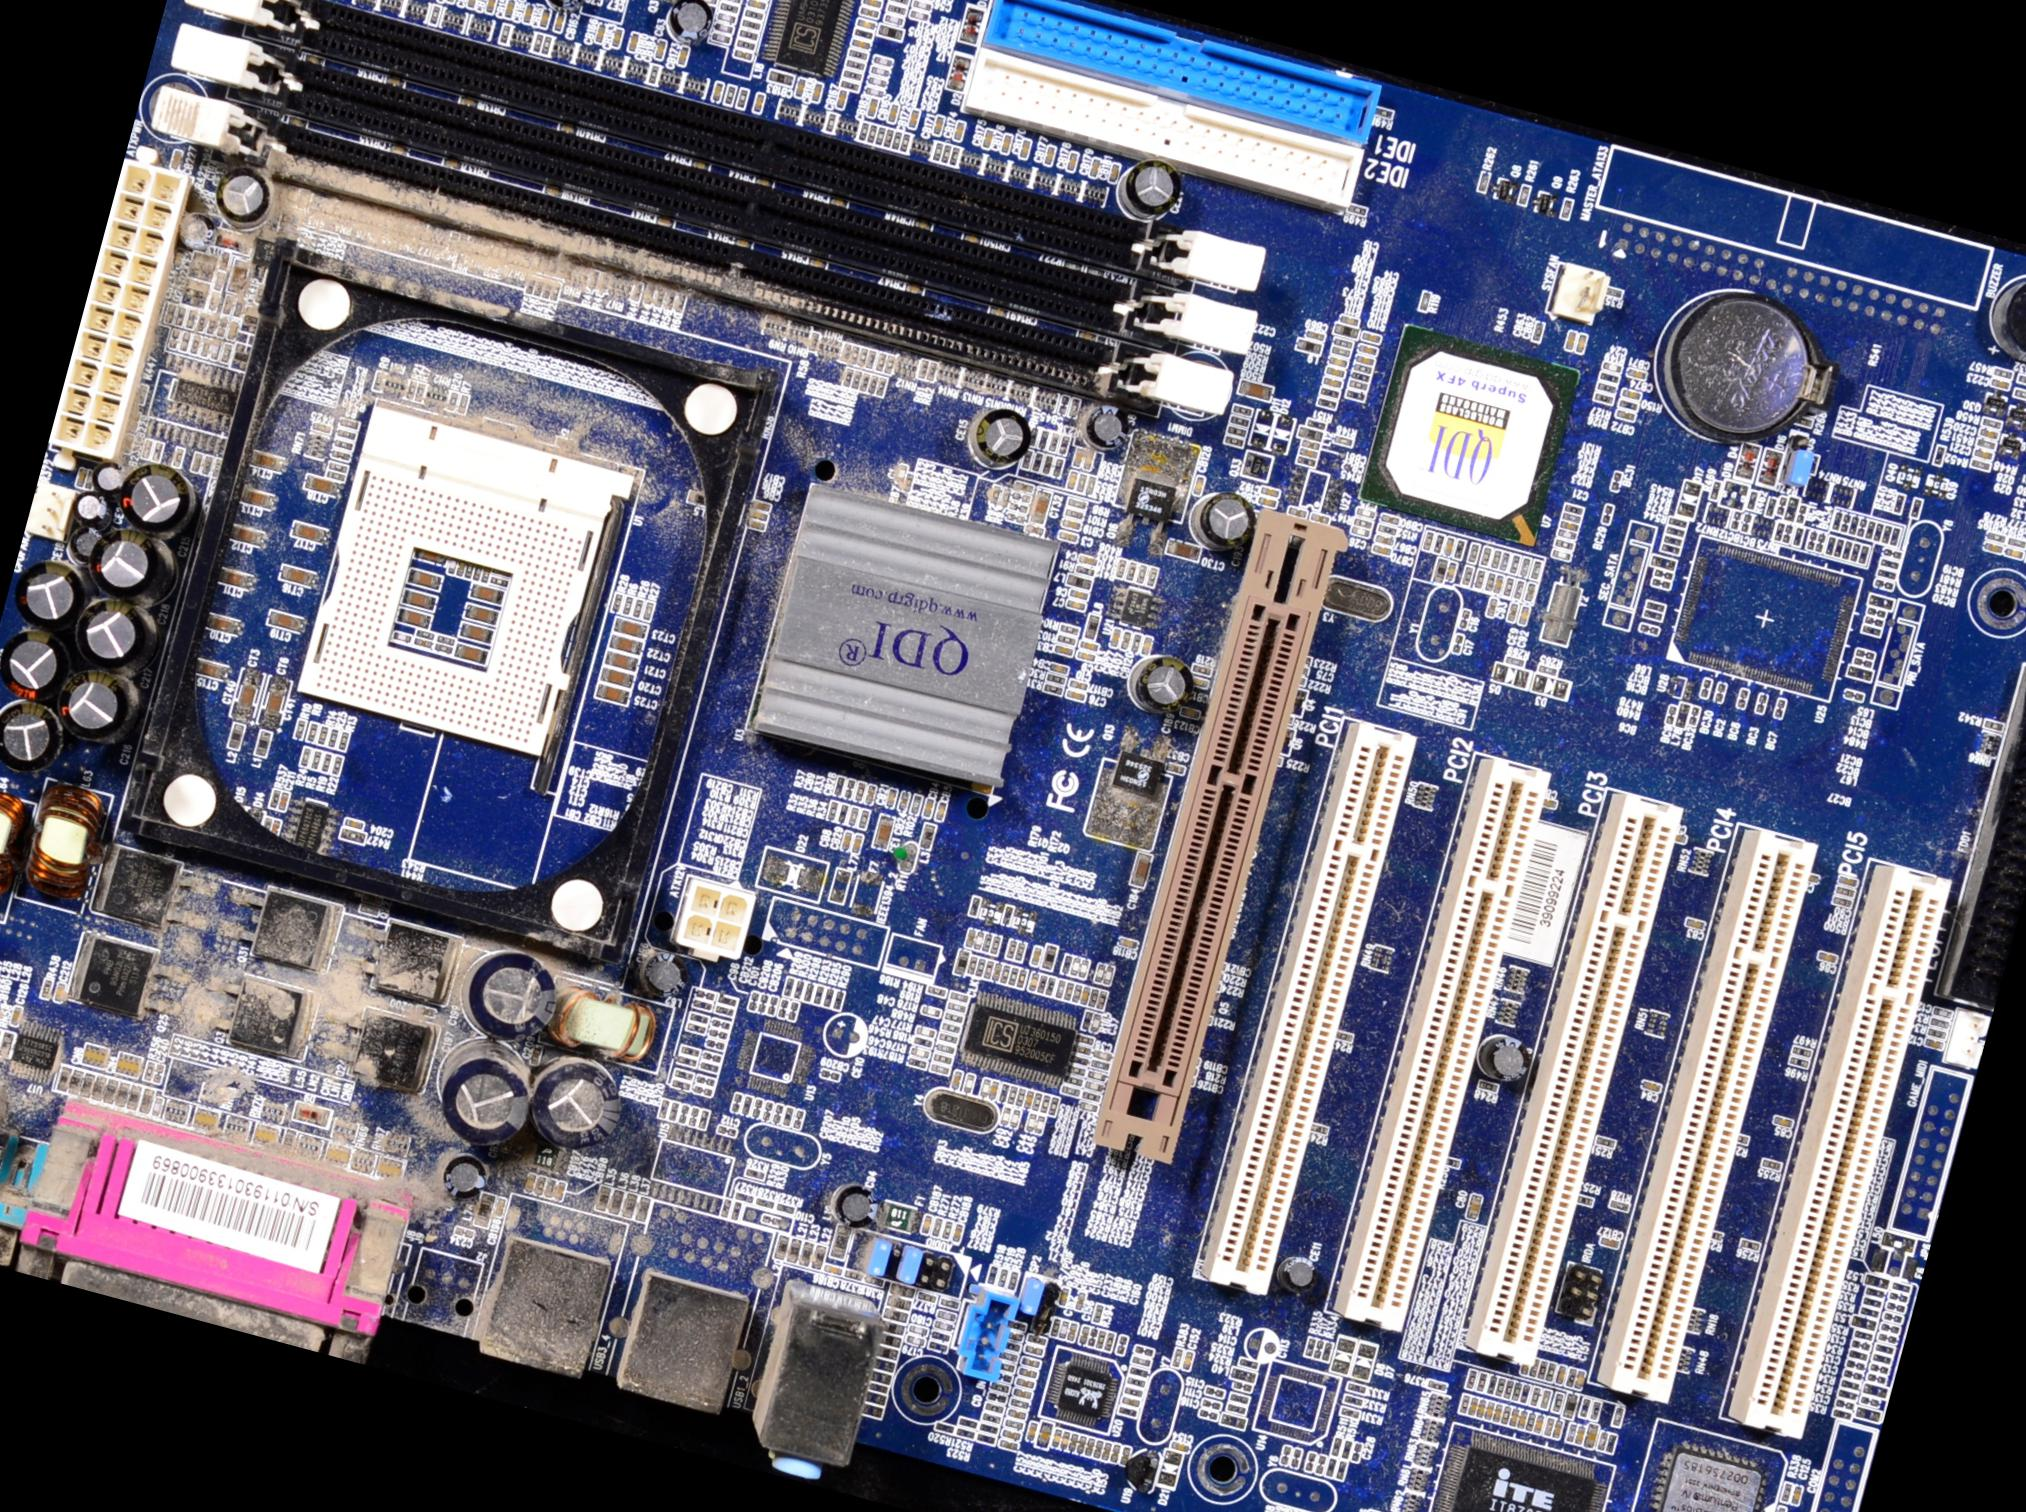Capacitor Jumper: (428, 1030, 543, 1160), (454, 934, 570, 1052), (521, 1048, 638, 1164), (68, 591, 166, 682), (84, 524, 180, 614), (55, 660, 150, 748), (109, 456, 200, 540), (7, 551, 90, 638), (0, 619, 78, 703), (1115, 148, 1193, 228), (0, 693, 67, 779), (1126, 647, 1201, 722), (966, 402, 1038, 475), (1187, 482, 1260, 554), (207, 160, 279, 232), (633, 944, 696, 1006), (825, 1178, 880, 1234), (436, 1149, 491, 1205), (661, 0, 721, 48), (1082, 401, 1133, 453), (1274, 1252, 1320, 1298), (65, 520, 106, 566), (176, 210, 218, 252), (70, 487, 112, 526), (89, 457, 128, 496), (1165, 538, 1203, 564), (1128, 850, 1152, 888), (538, 0, 596, 15), (1028, 488, 1051, 524), (1238, 379, 1272, 401), (1464, 1192, 1484, 1220), (1036, 1422, 1054, 1448), (1063, 687, 1088, 705), (1582, 1424, 1599, 1450), (1022, 1111, 1039, 1135), (865, 74, 891, 89), (1007, 1108, 1023, 1132), (1788, 1482, 1804, 1506), (710, 30, 734, 46), (8, 1004, 23, 1029), (1882, 1311, 1905, 1327), (870, 53, 894, 68), (1456, 608, 1471, 632), (1772, 1113, 1793, 1130), (1120, 1394, 1141, 1411), (1874, 1342, 1896, 1358), (1972, 447, 1994, 463), (919, 1005, 942, 1020), (1200, 1397, 1223, 1412), (869, 64, 892, 79), (1074, 649, 1097, 664), (1639, 1080, 1663, 1094), (1884, 1300, 1908, 1314), (1858, 1395, 1882, 1409), (1564, 329, 1578, 353), (1924, 1037, 1946, 1052), (1203, 1385, 1225, 1400), (1371, 542, 1393, 557), (913, 1024, 936, 1038), (1866, 1362, 1889, 1376), (53, 983, 67, 1006), (1441, 535, 1455, 558), (1836, 874, 1859, 888), (998, 1106, 1013, 1127), (1871, 1352, 1892, 1367), (1817, 950, 1838, 965), (1358, 331, 1382, 344), (1931, 1006, 1953, 1020), (746, 991, 760, 1013), (1180, 1350, 1194, 1372), (932, 1320, 954, 1334), (1197, 1408, 1219, 1422), (1614, 408, 1636, 422), (1556, 528, 1578, 542), (1444, 560, 1458, 582), (1054, 642, 1076, 656), (716, 9, 736, 24), (1354, 504, 1374, 519), (1168, 1441, 1191, 1454), (1484, 596, 1497, 619), (766, 996, 780, 1017), (1474, 1399, 1488, 1420), (1978, 426, 1999, 440), (1558, 518, 1579, 532), (1506, 602, 1520, 623), (1684, 918, 1705, 932), (910, 0, 934, 12), (342, 819, 364, 832), (1311, 1339, 1324, 1361), (1258, 485, 1280, 498), (1517, 606, 1530, 628), (1092, 962, 1106, 982), (1050, 1428, 1064, 1448), (1990, 377, 2010, 391), (1628, 367, 1648, 381), (1622, 387, 1642, 401), (1066, 597, 1086, 611), (1140, 637, 1154, 657), (1492, 572, 1504, 595), (1058, 1286, 1071, 1307), (1092, 1439, 1105, 1460), (1325, 366, 1346, 379), (1452, 634, 1465, 655), (1076, 554, 1097, 567), (909, 9, 930, 22), (882, 12, 904, 24), (864, 86, 886, 98), (1601, 362, 1623, 374), (1058, 530, 1080, 542), (951, 1224, 964, 1244), (1118, 1446, 1131, 1466), (1083, 1438, 1096, 1458), (1340, 314, 1360, 327), (1887, 1293, 1910, 1304), (1078, 958, 1090, 979), (1572, 1425, 1584, 1446), (935, 1310, 956, 1322), (1516, 1410, 1529, 1429), (714, 22, 733, 35), (1380, 512, 1399, 525), (1181, 706, 1200, 719), (1110, 628, 1121, 650), (1574, 1370, 1586, 1390), (920, 1216, 932, 1236), (823, 1264, 843, 1276), (907, 1324, 927, 1336), (1100, 1442, 1112, 1462), (1576, 334, 1588, 354), (1507, 1409, 1520, 1427), (1072, 448, 1085, 466), (278, 790, 289, 811), (1034, 1114, 1045, 1135), (1867, 1372, 1886, 1384), (1375, 535, 1394, 547), (1492, 1404, 1503, 1424), (1552, 1420, 1563, 1440), (1026, 1422, 1037, 1442), (1074, 1292, 1086, 1310), (1076, 1436, 1088, 1454), (1328, 356, 1346, 368), (1552, 548, 1570, 560), (1351, 526, 1369, 538), (1066, 472, 1078, 490), (1080, 640, 1098, 652), (1483, 1402, 1494, 1421), (905, 1336, 924, 1347), (1110, 1443, 1121, 1462), (1069, 588, 1088, 599), (1104, 964, 1114, 984), (1067, 1322, 1077, 1342), (1468, 1398, 1478, 1417), (1071, 959, 1082, 976), (1067, 1434, 1078, 1451), (1060, 1432, 1070, 1450), (1533, 1418, 1544, 1434), (1556, 1368, 1566, 1384), (720, 0, 745, 6), (696, 0, 720, 5), (1774, 1506, 1787, 1511)
Connector: (146, 71, 1252, 436), (165, 14, 1276, 366), (179, 0, 1274, 303), (1079, 501, 1354, 1176), (1589, 819, 1827, 1409), (1190, 710, 1422, 1296), (1456, 789, 1689, 1372), (1326, 749, 1557, 1334), (1726, 854, 1956, 1433), (964, 48, 1362, 207), (983, 0, 1384, 148), (1470, 1026, 1536, 1088)
IC: (1352, 319, 1586, 551), (1417, 1420, 1615, 1511), (1627, 1420, 1788, 1511), (955, 992, 1081, 1092), (760, 0, 867, 84), (1040, 1345, 1128, 1433), (160, 358, 245, 436), (277, 796, 344, 861), (5, 1018, 67, 1088), (1105, 578, 1170, 631)
Resistor Jumper: (1473, 169, 1492, 195), (1344, 201, 1370, 220), (824, 799, 841, 825), (838, 66, 864, 83), (1465, 540, 1482, 566), (1558, 197, 1576, 221), (1552, 536, 1577, 553), (340, 828, 366, 844), (845, 47, 871, 63), (837, 78, 863, 94), (1530, 318, 1546, 344), (1515, 184, 1532, 208), (1322, 1456, 1339, 1480), (735, 85, 751, 110), (850, 26, 876, 41), (842, 57, 868, 72), (1607, 1198, 1631, 1214), (38, 976, 54, 1000), (1416, 290, 1432, 314), (1967, 457, 1991, 473), (1592, 390, 1616, 406), (1858, 1305, 1880, 1322), (1476, 1078, 1499, 1094), (1846, 1348, 1869, 1364), (669, 1077, 692, 1093), (1342, 1394, 1365, 1410), (1500, 577, 1516, 600), (1041, 682, 1064, 698), (292, 718, 307, 742), (1878, 1321, 1902, 1336), (1344, 1381, 1368, 1396), (1169, 1347, 1184, 1371), (1516, 554, 1531, 578), (1420, 530, 1435, 554), (1072, 1042, 1094, 1058), (1738, 1238, 1760, 1254), (1374, 104, 1396, 120), (712, 1004, 735, 1019), (1541, 1416, 1556, 1439), (1237, 1356, 1260, 1371), (926, 1340, 949, 1355), (1335, 1459, 1350, 1482), (723, 84, 738, 107), (1530, 559, 1545, 582), (1472, 568, 1487, 591), (886, 2, 909, 17), (1790, 1046, 1814, 1060), (299, 744, 313, 768), (1760, 1158, 1784, 1172), (944, 1001, 968, 1015), (942, 1010, 966, 1024), (782, 975, 796, 999), (1860, 1295, 1884, 1309), (907, 1046, 931, 1060), (1303, 1336, 1317, 1360), (1908, 495, 1922, 519), (1984, 530, 2008, 544), (848, 369, 864, 390), (866, 374, 880, 398), (1477, 545, 1493, 566), (1507, 553, 1523, 574), (1594, 1135, 1616, 1150), (1340, 1405, 1362, 1420), (1522, 582, 1537, 604), (1129, 632, 1144, 654), (947, 991, 970, 1005), (1060, 1084, 1083, 1098), (1080, 1090, 1103, 1104), (905, 1058, 928, 1072), (1830, 1408, 1853, 1422), (1980, 416, 2003, 430), (1460, 565, 1474, 588), (1057, 633, 1080, 647), (1834, 886, 1857, 900), (1086, 987, 1101, 1008), (267, 789, 282, 810), (941, 1021, 962, 1036), (1229, 1391, 1250, 1406), (1127, 1365, 1148, 1380), (1489, 548, 1504, 569), (836, 802, 849, 826), (338, 732, 352, 754), (310, 749, 324, 771), (965, 956, 979, 978), (832, 990, 846, 1012), (716, 994, 738, 1008), (1876, 1332, 1898, 1346), (1852, 1328, 1874, 1342), (698, 1060, 720, 1074), (672, 1068, 694, 1082), (1474, 1372, 1488, 1394), (1550, 1392, 1564, 1414), (1006, 1270, 1020, 1292), (142, 1062, 156, 1084), (1134, 1344, 1156, 1358), (916, 1290, 938, 1304), (1116, 1406, 1138, 1420), (934, 1421, 956, 1435), (858, 372, 872, 394), (1430, 532, 1444, 554), (1512, 580, 1526, 602), (1504, 654, 1526, 668), (1328, 1437, 1344, 1456), (1863, 1286, 1886, 1299), (1321, 1341, 1334, 1364), (883, 352, 896, 375), (1788, 1056, 1809, 1070), (822, 987, 836, 1008), (1426, 1379, 1447, 1393), (864, 1274, 885, 1288), (1225, 1402, 1246, 1416), (1123, 1386, 1144, 1400), (1992, 366, 2013, 380), (642, 601, 656, 622), (610, 593, 624, 614), (327, 728, 340, 750), (1008, 965, 1021, 987), (1015, 968, 1028, 990), (740, 18, 762, 31), (1931, 444, 1944, 466), (1598, 372, 1620, 385), (1893, 493, 1906, 515), (924, 360, 937, 382), (873, 377, 886, 399), (1066, 497, 1088, 510), (1536, 664, 1558, 677), (1096, 989, 1110, 1009), (802, 982, 816, 1002), (792, 980, 806, 1000), (1779, 1482, 1793, 1502), (620, 597, 634, 617), (847, 805, 859, 828), (687, 1012, 710, 1024), (1595, 382, 1618, 394), (1454, 537, 1466, 560), (858, 809, 871, 830), (316, 726, 329, 747), (1063, 982, 1076, 1003), (812, 984, 825, 1005), (1892, 1282, 1913, 1295), (936, 1032, 957, 1045), (1836, 1388, 1857, 1401), (987, 1265, 1000, 1286), (929, 1331, 950, 1344), (736, 38, 757, 51), (1531, 322, 1544, 343), (916, 358, 929, 379), (843, 367, 856, 388), (1120, 631, 1133, 652), (1059, 623, 1080, 636), (2006, 537, 2025, 551), (1838, 1379, 1860, 1391), (1540, 1388, 1552, 1410), (737, 28, 759, 40), (1975, 438, 1997, 450), (1560, 511, 1582, 523), (1376, 524, 1398, 536), (1352, 518, 1374, 530), (990, 935, 1003, 955), (1004, 940, 1017, 960), (935, 1043, 955, 1056), (680, 1046, 700, 1059), (930, 1217, 943, 1237), (1605, 1434, 1618, 1454), (1596, 1432, 1609, 1452), (1091, 1304, 1104, 1324), (1125, 1376, 1145, 1389), (956, 1417, 976, 1430), (1563, 502, 1583, 515), (1064, 508, 1084, 521), (854, 780, 866, 801), (833, 776, 845, 797), (332, 756, 344, 777), (982, 933, 994, 954), (1074, 1034, 1095, 1046), (691, 1000, 712, 1012), (942, 1220, 954, 1241), (1486, 1375, 1498, 1396), (864, 348, 876, 369), (1832, 896, 1853, 908), (1014, 942, 1027, 961), (306, 724, 318, 744), (974, 957, 986, 977), (1046, 977, 1058, 997), (745, 9, 765, 21), (1536, 1360, 1548, 1380), (1503, 1380, 1515, 1400), (1494, 1378, 1506, 1398), (734, 1192, 754, 1204), (996, 1268, 1008, 1288), (1499, 1406, 1511, 1426), (843, 1270, 863, 1282), (939, 1298, 959, 1310), (1132, 1356, 1152, 1368), (1340, 1440, 1352, 1460), (1004, 1419, 1024, 1431), (954, 1428, 974, 1440), (1619, 398, 1639, 410), (874, 352, 886, 372), (1500, 551, 1512, 571), (1577, 1195, 1595, 1208), (632, 598, 643, 619), (999, 965, 1011, 984), (1036, 975, 1048, 994), (982, 961, 994, 980), (686, 1023, 705, 1035), (744, 1169, 763, 1181), (755, 1198, 774, 1210), (856, 348, 868, 367), (1484, 572, 1496, 591), (2011, 386, 2025, 402), (322, 754, 333, 774), (1529, 1388, 1540, 1408), (776, 1204, 796, 1215), (1072, 985, 1084, 1003), (1512, 1382, 1524, 1400), (1465, 1372, 1477, 1390), (910, 795, 921, 814), (1544, 1363, 1555, 1382), (1520, 1385, 1531, 1404), (932, 1054, 952, 1064), (1064, 1075, 1082, 1086), (930, 1064, 948, 1075), (1565, 1368, 1575, 1387), (886, 0, 913, 7), (1525, 1413, 1536, 1430), (1071, 1055, 1088, 1064), (1048, 674, 1065, 683), (2016, 373, 2025, 387)
Transistor: (190, 963, 328, 1068), (66, 928, 196, 1032), (335, 907, 466, 1010), (214, 874, 346, 976), (104, 843, 224, 940), (332, 1002, 438, 1096), (1104, 724, 1177, 802), (1112, 473, 1180, 555), (1241, 450, 1272, 482), (1997, 431, 2024, 458), (1533, 190, 1560, 216), (1982, 393, 2008, 418), (1494, 177, 1516, 204), (2006, 402, 2025, 433)
